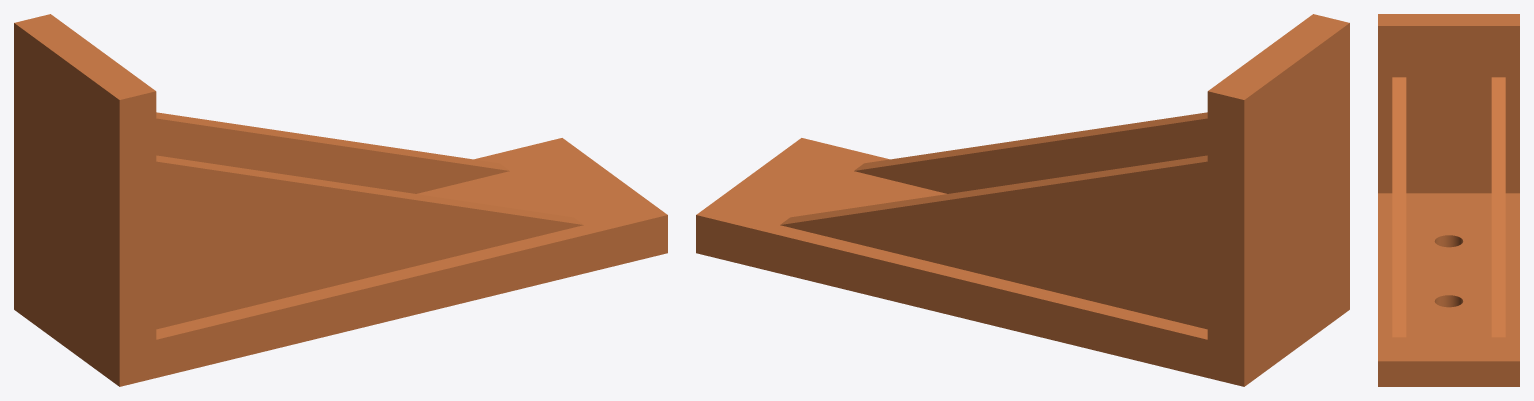
3 views of the same model, side by side, from view 1: azimuth 30°, elevation 25°; view 2: azimuth 150°, elevation 25°; view 3: azimuth 270°, elevation 25° (orthographic). The views are drawn at different scales.
Parts seen in each view (by area): view 1: part; view 2: part; view 3: part.
Part boxes in pixels (bbox=[...]): part: bbox=[14, 14, 667, 386]; part: bbox=[696, 14, 1349, 386]; part: bbox=[1378, 14, 1519, 386].
Bounding box in the file's own units: 60 × 30 × 20.
